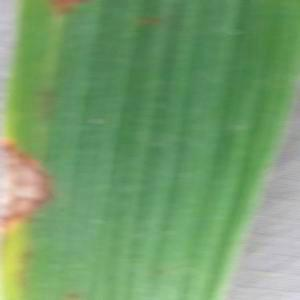1 RiceBlast: (1, 125, 65, 248)
